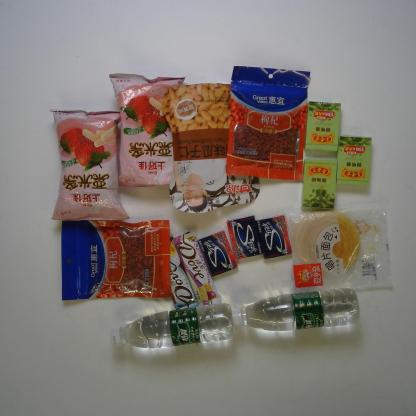Candy: (304, 100, 342, 152), (301, 158, 338, 210), (336, 134, 372, 186)
Chocolate: (172, 231, 222, 305), (169, 233, 200, 310)
Dessert: (285, 200, 394, 294)
Dried Fruit: (161, 82, 261, 214), (224, 65, 312, 182), (60, 219, 172, 301)
Drink: (108, 300, 235, 350), (232, 288, 361, 332)
Gum: (198, 229, 238, 278), (226, 216, 264, 260), (257, 214, 292, 260)
Puffed Food: (48, 107, 130, 224), (108, 72, 187, 189)
